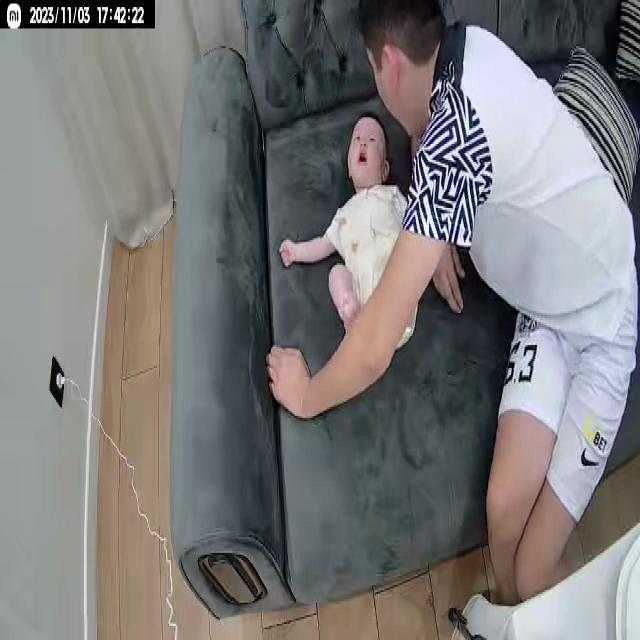baby: (276, 107, 422, 356)
